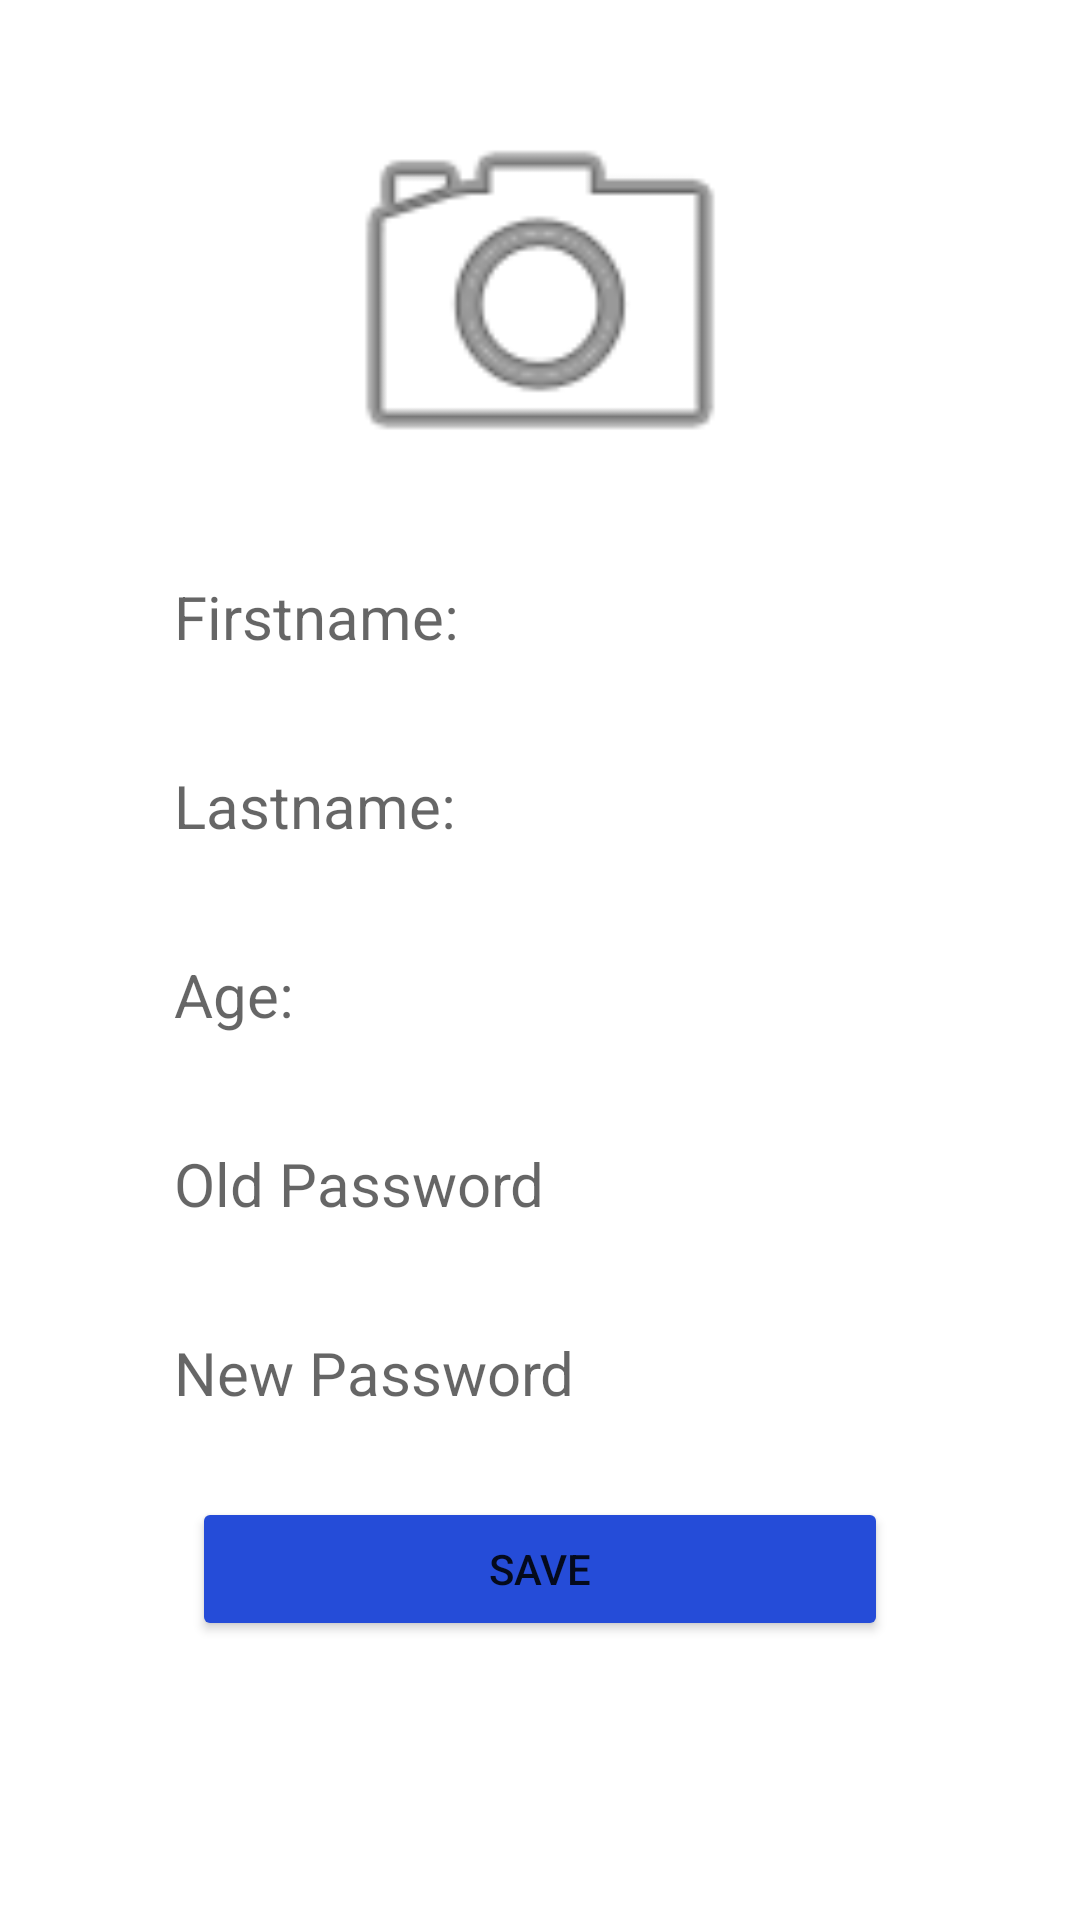

Icons on this 1080px×1920px Android screen, each with the point to tap as point (x, y):
camera: point (540, 290)
